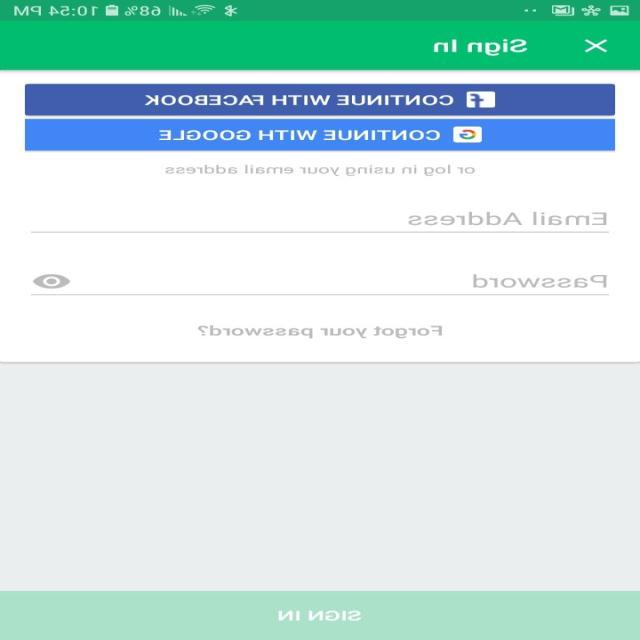EditText: (31, 211, 610, 233), (31, 274, 610, 295)
Icon: (33, 274, 71, 288), (584, 39, 608, 53)
Text: (165, 164, 476, 176), (198, 324, 443, 338), (409, 211, 607, 225), (473, 273, 607, 288), (434, 38, 528, 56)
TextButton: (1, 590, 640, 640), (25, 84, 616, 116), (25, 119, 616, 150)
